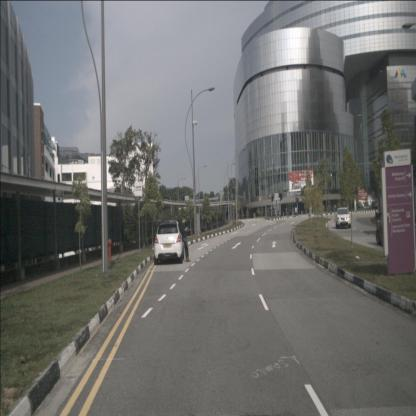human-pedestrian-adult: (180, 216, 191, 262), (206, 214, 209, 230), (294, 206, 298, 216), (225, 208, 228, 221), (292, 206, 294, 216)
vehicle-car: (376, 212, 416, 248), (154, 220, 184, 264), (336, 207, 351, 229), (264, 207, 280, 218), (372, 200, 380, 210)
